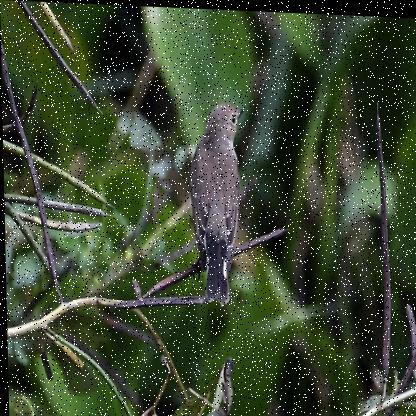Burung: (186, 96, 250, 299)
